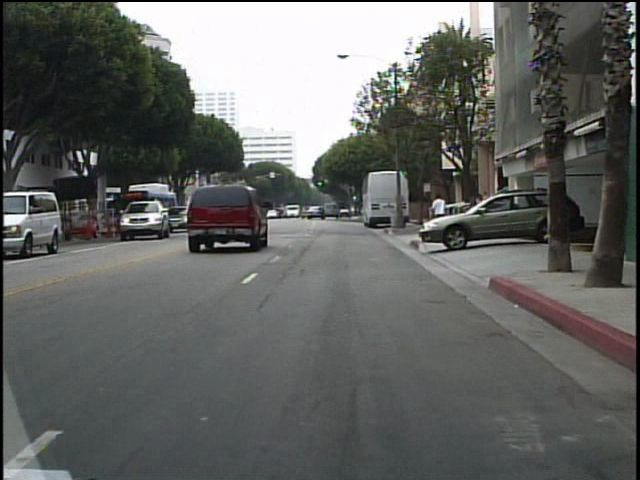person: (427, 191, 450, 238)
